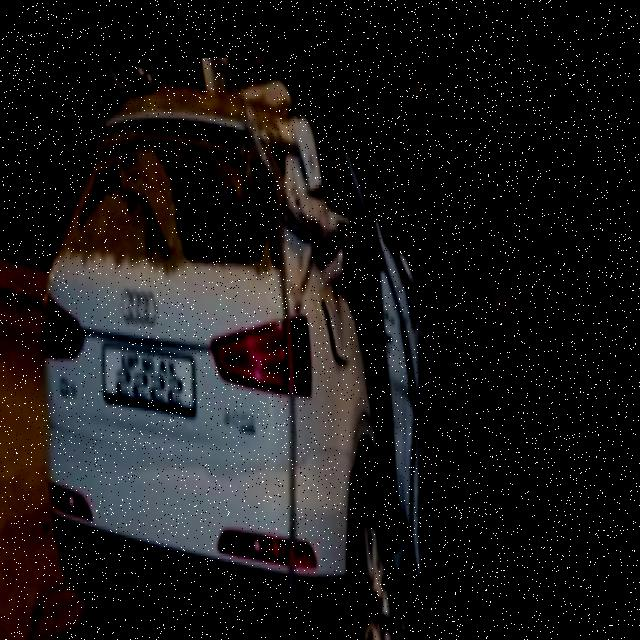license_plate: (96, 307, 206, 424)
